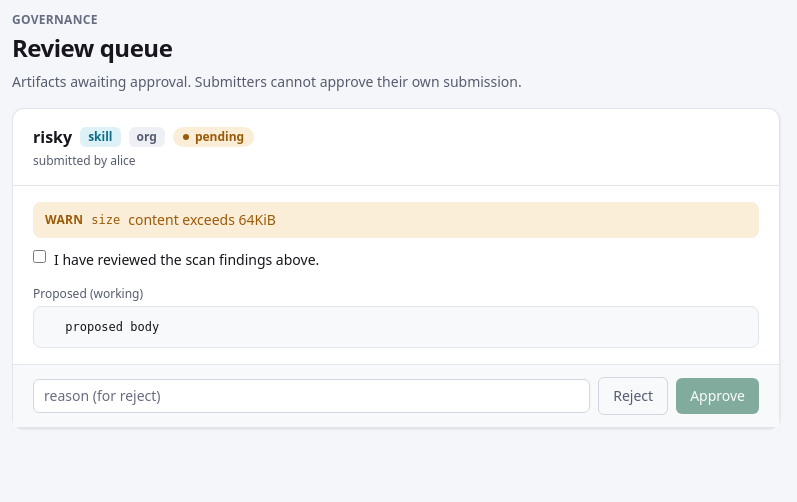
Test: a findings-ack-required 409 that slips through (a stale queue row) shows the reload notice, not a raw error
Check: the text "risky" is shown, box [33,125,72,149]
Click the checkbox named "reviewed the findings for risky" at (40, 256), box [33,250,46,263]
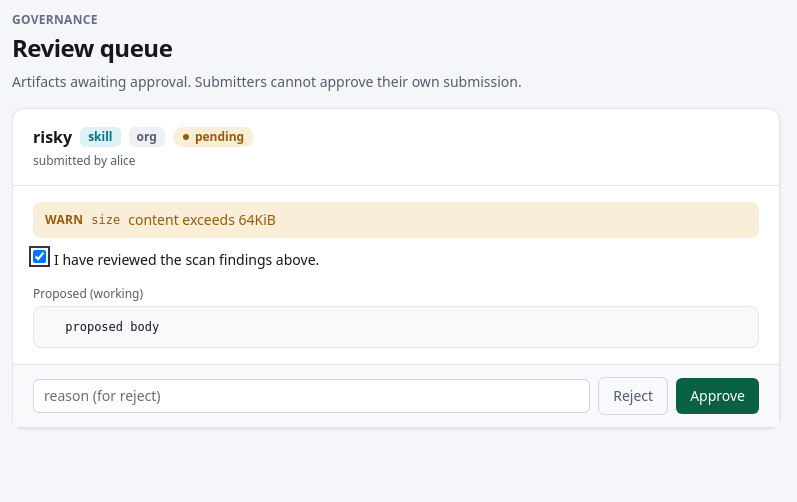
Click the button "Approve" at (718, 396), box [676,378,759,414]
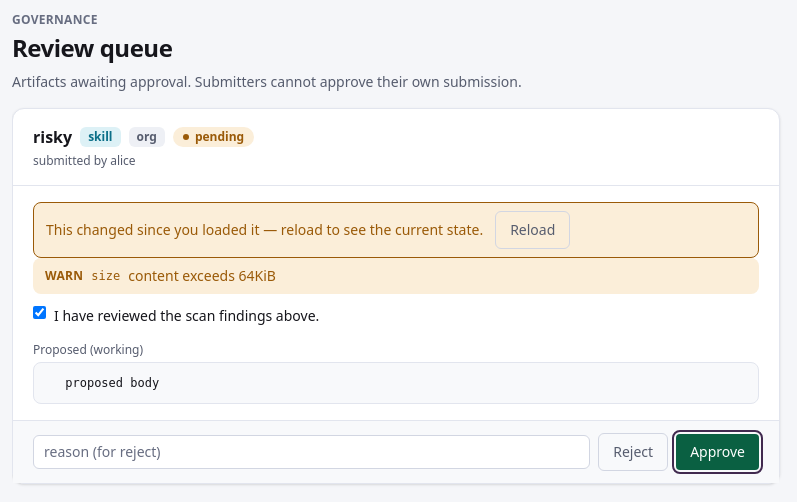
Check: the text "This changed since you loaded it — reload to see the current state" is shown, box [46,220,483,239]
